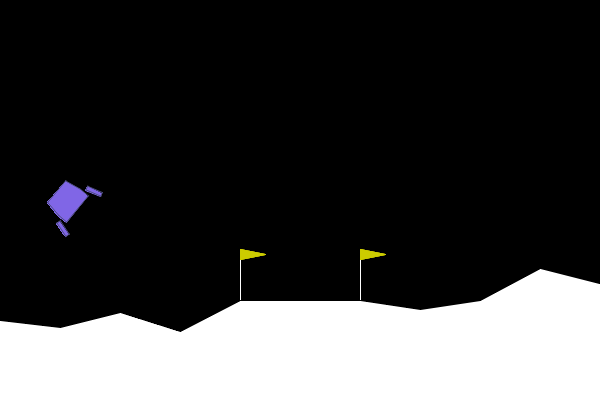lander: (35, 168, 104, 239)
